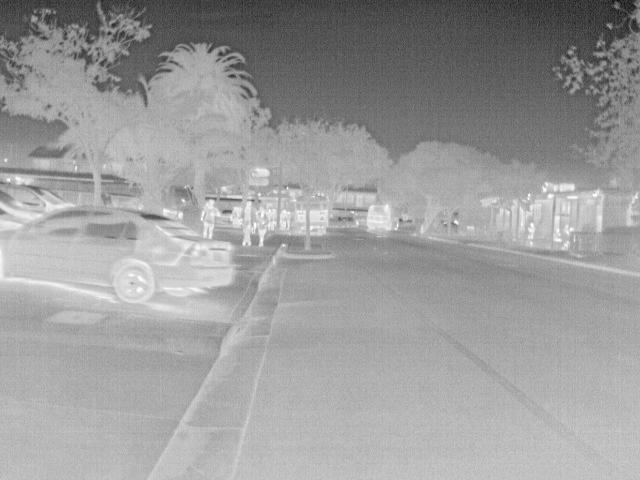car: (1, 204, 235, 306), (1, 181, 77, 217), (163, 206, 186, 222)
person: (238, 198, 260, 246), (201, 199, 221, 238), (255, 207, 272, 250), (526, 220, 539, 241), (551, 227, 565, 242), (286, 209, 293, 231)
